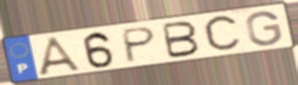6: (81, 30, 116, 69)
A: (36, 34, 87, 76)
B: (161, 20, 202, 60)
C: (201, 12, 244, 55)
G: (244, 10, 284, 47)
P: (121, 25, 159, 65)
